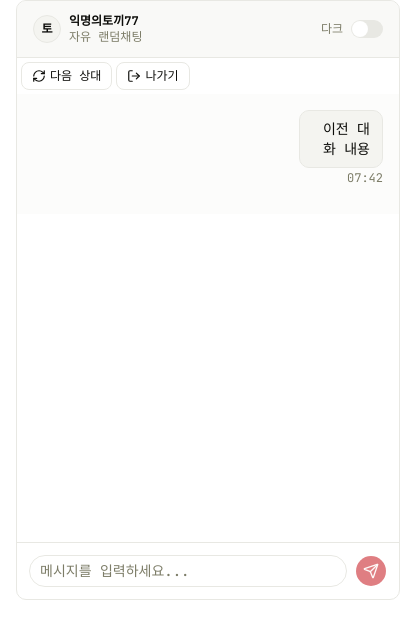
Test: CHAT-017: 대화 종료 시 데이터 삭제 (나가기) › previous messages are not shown after leaving
Expected: the text "이전 대화 내용" is shown, [299, 110, 383, 168]
What coordinates should you click on to do the following:
click the button "나가기"
I would click on:
 (153, 76)
Its box is [116, 62, 190, 90].
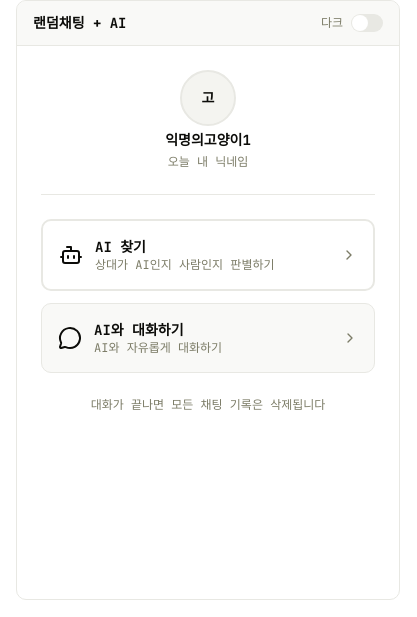
Result: the text "이전 대화 내용" is gone
